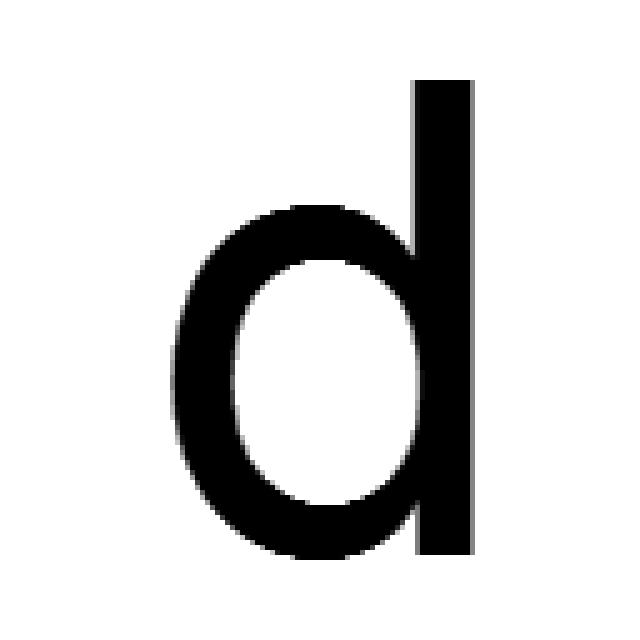D: (165, 75, 480, 565)
